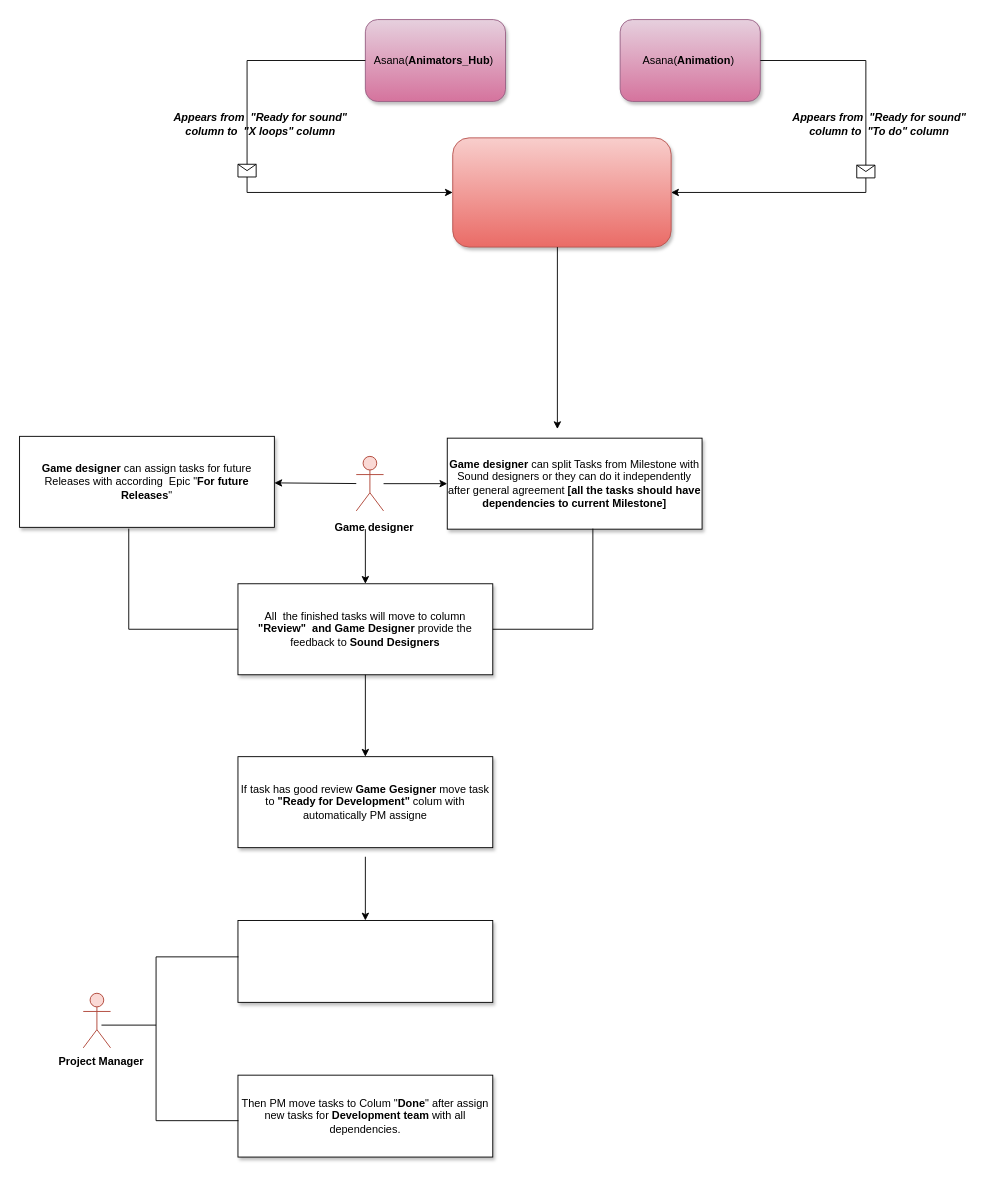
Image size: 1000x1179. Some labels were removed from this diagram. Each missing label, with the centre of its shape:
Asana( Sound ): point (562, 193)
PM check the dependencies to current Milestone and Review the tasks.: point (365, 962)
